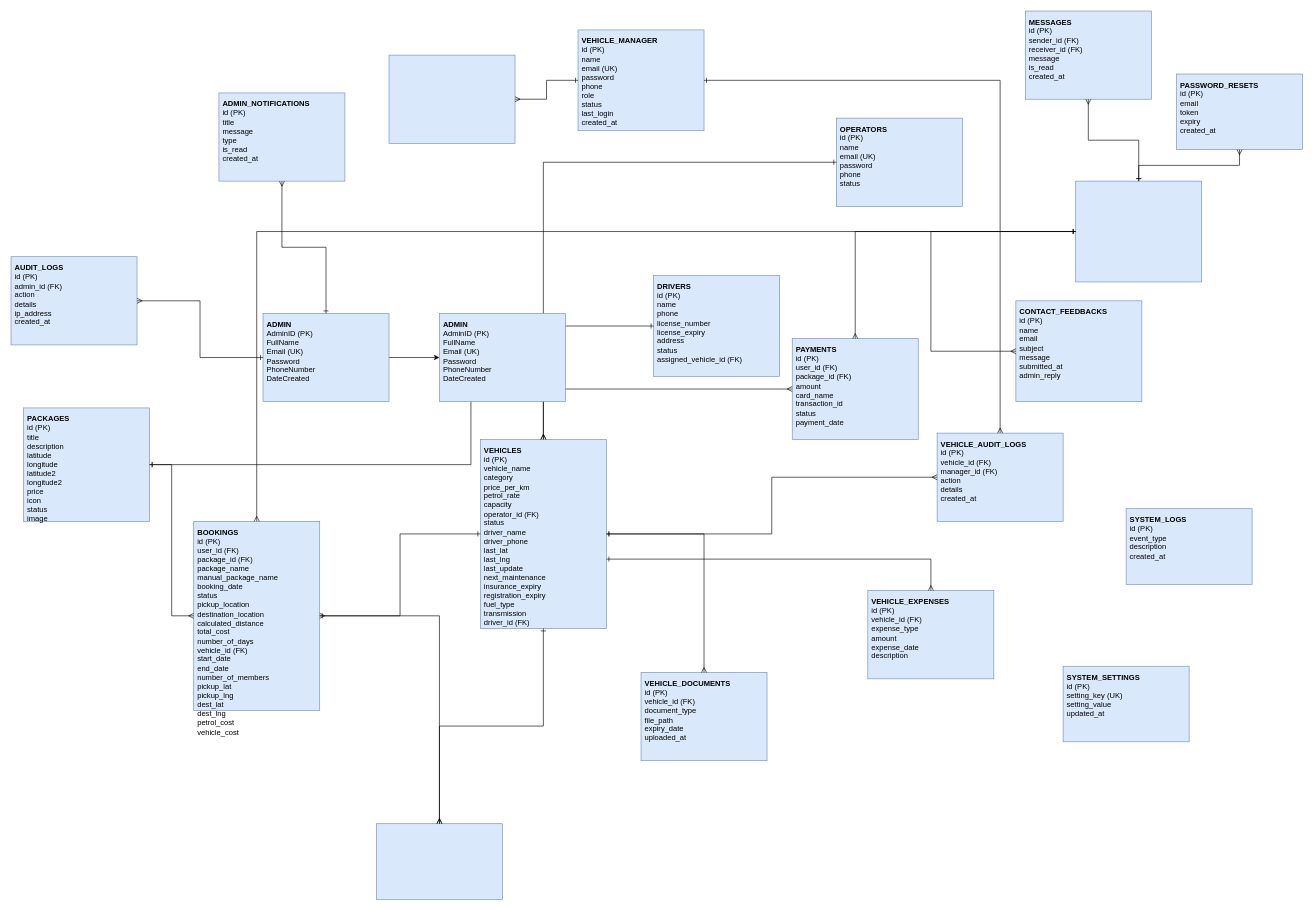
Image size: 1314x910. Some labels were removed from this diagram. The shapes that lost their labels are listed below. From the top down, each one's centre as x and y in pixels, then its label:
the point at 451,98: NOTIFICATIONS id (PK) title message type is_read created_at
the point at 1138,231: USERS id (PK) full_name email (UK) phone address password role created_at
the point at 439,861: BOOKING_VEHICLES id (PK) booking_id (FK) vehicle_id (FK) assigned_date status
